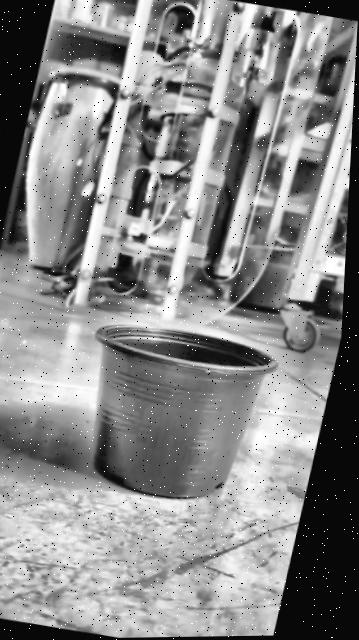pot: (58, 314, 282, 513)
